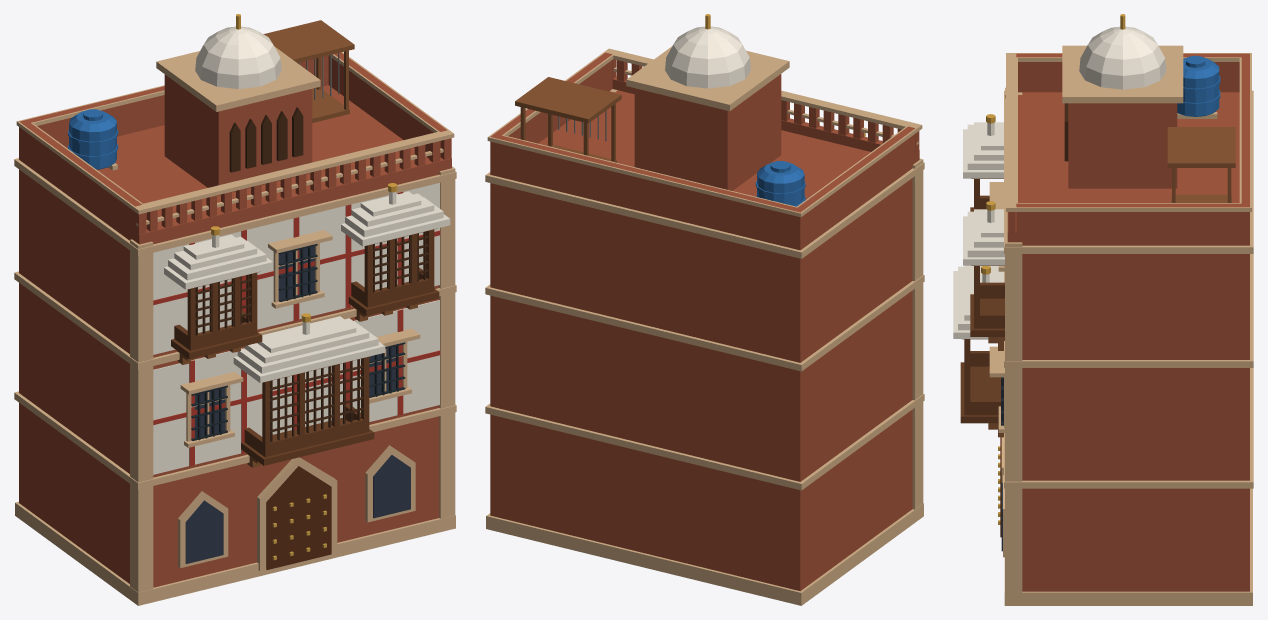
The model's file is haveli.glb.
3 views of the same model, side by side, from view 1: azimuth 30°, elevation 25°; view 2: azimuth 150°, elevation 25°; view 3: azimuth 270°, elevation 25° (orthographic).
Parts seen in each view (by area): view 1: Haveli_Walls, Haveli_Trim, Haveli_Plaster, Haveli_Roof, Haveli_Wood, Haveli_Jali, Haveli_Windows, Haveli_Door, Haveli_Fresco, Haveli_Wood2, Haveli_Grills, Haveli_Tank; view 2: Haveli_Walls, Haveli_Trim, Haveli_Roof, Haveli_Wood2, Haveli_Tank; view 3: Haveli_Walls, Haveli_Trim, Haveli_Roof, Haveli_Wood, Haveli_Wood2, Haveli_Tank.
Boxes of the visible parts, box(x1,y1,x2,y2) form: Haveli_Walls: box(19, 52, 451, 587); Haveli_Trim: box(14, 46, 456, 605); Haveli_Plaster: box(153, 183, 439, 474); Haveli_Roof: box(164, 26, 450, 382); Haveli_Wood: box(171, 228, 439, 465); Haveli_Jali: box(195, 107, 428, 441); Haveli_Windows: box(185, 246, 410, 563); Haveli_Door: box(266, 466, 331, 569); Haveli_Fresco: box(153, 192, 440, 466); Haveli_Wood2: box(178, 20, 422, 467); Haveli_Grills: box(191, 244, 405, 440); Haveli_Tank: box(68, 109, 118, 169); Haveli_Walls: box(490, 52, 919, 591); Haveli_Trim: box(485, 46, 924, 605); Haveli_Roof: box(665, 26, 750, 88); Haveli_Wood2: box(515, 77, 621, 162); Haveli_Tank: box(755, 161, 805, 206); Haveli_Walls: box(1007, 53, 1249, 591); Haveli_Trim: box(989, 45, 1253, 605); Haveli_Roof: box(953, 26, 1166, 338); Haveli_Wood: box(960, 178, 1004, 423); Haveli_Wood2: box(988, 127, 1235, 437); Haveli_Tank: box(1177, 55, 1220, 116).
Bounding box in the file's own units: 30.6 × 46.7 × 24.8.
